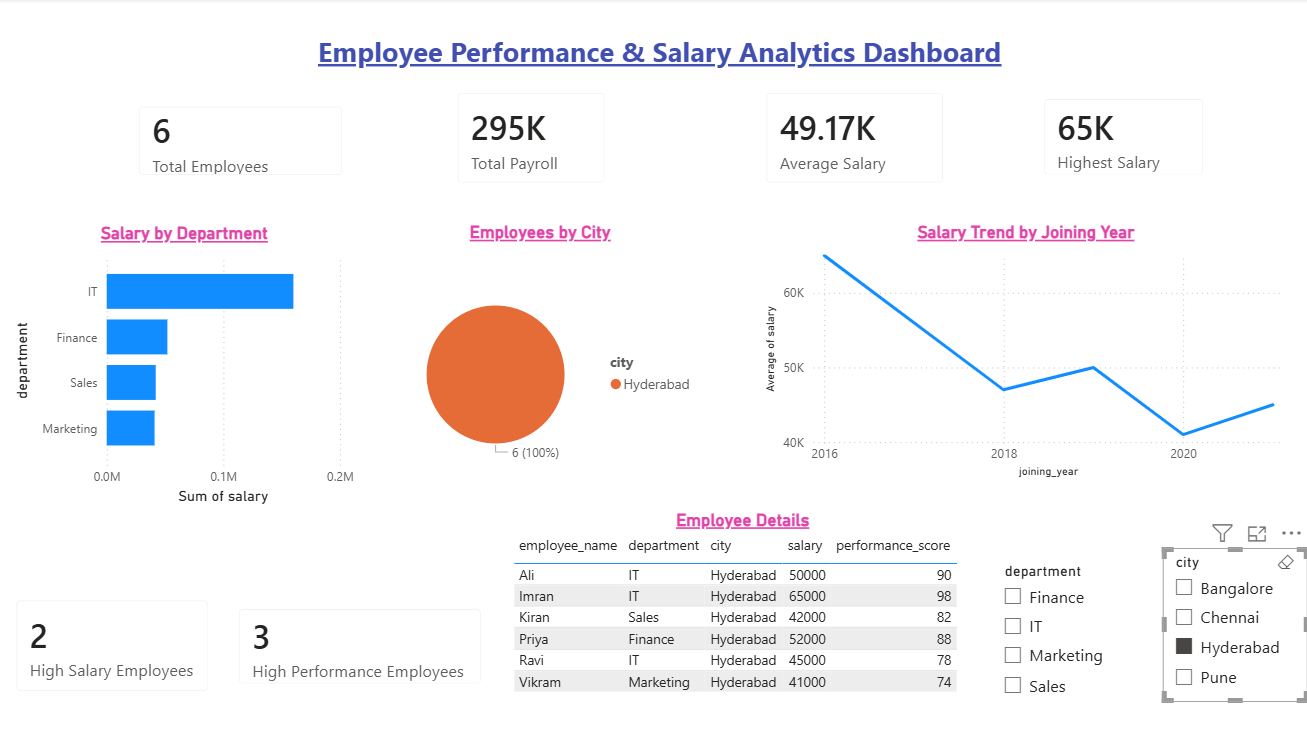

The page's visual inventory and layout, read from the dashboard file:
{"tool":"powerbi","page":{"name":"Page 1","canvas":[1280,720],"ordinal":0},"visuals":[{"type":"cardVisual","fields":{"Data":["CountNonNull(Sheet1.employee_id)"]},"box":[119.8,89.3,233.6,101.5],"z":0},{"type":"cardVisual","fields":{"Data":["Sum(Sheet1.salary)"]},"box":[431.7,75.8,178.5,122.3],"z":1000},{"type":"cardVisual","fields":{"Data":["Avg(Sheet1.salary)"]},"box":[733.7,75.8,207.9,122.3],"z":2000},{"type":"cardVisual","fields":{"Data":["Max(Sheet1.salary)"]},"box":[1005.2,81.9,190.8,108.8],"z":3000},{"type":"clusteredBarChart","title":"Salary by Department","fields":{"Category":["Sheet1.department"],"Y":["Sum(Sheet1.salary)"]},"box":[9.6,219.6,343.1,279.9],"z":4000},{"type":"pieChart","title":"Employees by City","fields":{"Category":["Sheet1.city"],"Y":["CountNonNull(Sheet1.employee_id)"]},"box":[369.3,218.9,320.4,280],"z":5000},{"type":"lineChart","title":"Salary Trend by Joining Year","fields":{"Category":["Sheet1.joining_year"],"Y":["Avg(Sheet1.salary)"]},"box":[744.7,218.9,519.7,255.6],"z":6000},{"type":"tableEx","title":"Employee Details","fields":{"Values":["Sheet1.employee_name","Sheet1.department","Sheet1.city","Sheet1.salary","Sheet1.performance_score"]},"box":[497.7,500.1,459.8,220.1],"z":7000},{"type":"slicer","fields":{"Values":["Sheet1.department"]},"box":[970.9,546.6,154.1,149.2],"z":7001},{"type":"slicer","fields":{"Values":["Sheet1.city"]},"box":[1138.5,538,141.8,150.4],"z":7002},{"type":"cardVisual","fields":{"Data":["Sheet1.High Salary Employees"]},"box":[0,572.3,222.6,123.5],"z":7003},{"type":"cardVisual","fields":{"Data":["Sheet1.High Performance Employees"]},"box":[217.7,580.8,271.5,107.6],"z":7004},{"type":"textbox","box":[201.7,28.8,889.2,56.3],"z":7005}]}

Visuals, with their boxes in screenshot pixels (x1, y1, x2, y2), scaled from the page's 1280x720 canvas onto the 1307x732 screenshot:
cardVisual - CountNonNull(Sheet1.employee_id): bbox=[122, 91, 361, 194]
cardVisual - Sum(Sheet1.salary): bbox=[441, 77, 623, 201]
cardVisual - Avg(Sheet1.salary): bbox=[749, 77, 961, 201]
cardVisual - Max(Sheet1.salary): bbox=[1026, 83, 1221, 194]
"Salary by Department" clusteredBarChart: bbox=[10, 223, 360, 508]
"Employees by City" pieChart: bbox=[377, 223, 704, 507]
"Salary Trend by Joining Year" lineChart: bbox=[760, 223, 1291, 482]
"Employee Details" tableEx: bbox=[508, 508, 978, 731]
slicer - Sheet1.department: bbox=[991, 556, 1149, 707]
slicer - Sheet1.city: bbox=[1163, 547, 1306, 700]
cardVisual - Sheet1.High Salary Employees: bbox=[0, 582, 227, 707]
cardVisual - Sheet1.High Performance Employees: bbox=[222, 590, 500, 700]
textbox: bbox=[206, 29, 1114, 87]
